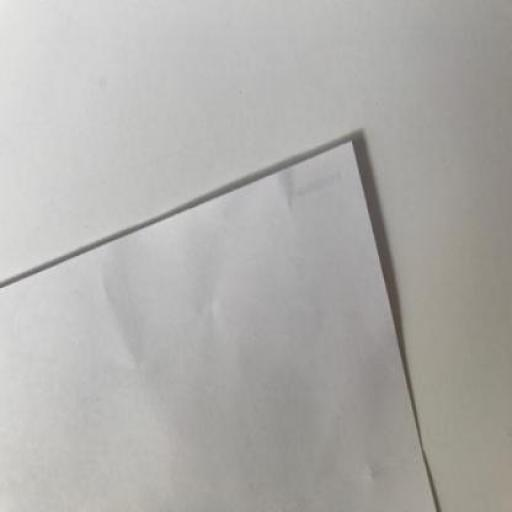paper: (0, 139, 434, 510)
